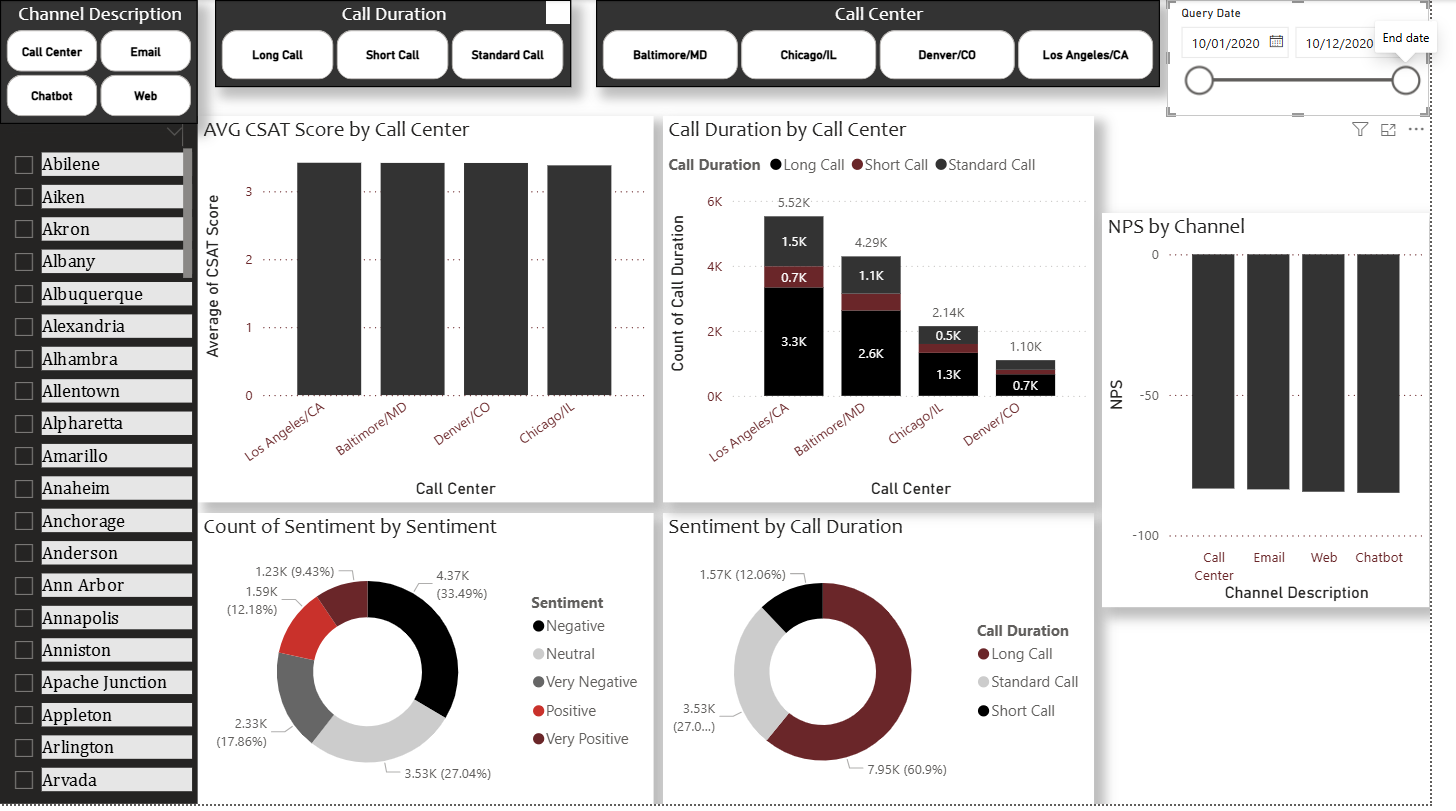

This screenshot's page, from the dashboard's own definition file:
{"tool":"powerbi","page":{"name":"Page 2","canvas":[1280,720],"ordinal":1},"visuals":[{"type":"clusteredColumnChart","title":"AVG CSAT Score by Call Center","fields":{"Category":["Call Center Data.Call Center"],"Y":["Avg(Call Center Data.CSAT Score)"]},"box":[177,104.1,407.5,346.3],"z":0},{"type":"slicer","fields":{"Values":["Call Center Data.Query Date"]},"box":[1160.4,0,119.6,92.4],"z":1000},{"type":"advancedSlicerVisual","title":"Channel","fields":{"Values":["Channel.Channel Description"]},"box":[0,0,229.5,104.1],"z":2000},{"type":"donutChart","fields":{"Category":["Call Center Data.Sentiment"],"Y":["CountNonNull(Call Center Data.Sentiment)"]},"box":[177,459.1,407.5,261.6],"z":3000},{"type":"advancedSlicerVisual","fields":{"Values":["Call Center Data.Call Duration"]},"box":[229.5,0,376.4,66.1],"z":4000},{"type":"donutChart","title":"Sentiment by Call Duration","fields":{"Category":["Call Center Data.Call Duration"],"Y":["CountNonNull(Call Center Data.Call Duration)"]},"box":[593.3,459.1,386.1,261.6],"z":5000},{"type":"columnChart","title":"Call Duration by Call Center","fields":{"Category":["Call Center Data.Call Center"],"Y":["CountNonNull(Call Center Data.Call Duration)"],"Series":["Call Center Data.Call Duration"]},"box":[593.3,104.1,386.1,346.3],"z":6000},{"type":"columnChart","title":"NPS by Channel","fields":{"Category":["Channel.Channel Description"],"Y":["Call Center Data.NPS"]},"box":[987.2,190.6,292.8,353.1],"z":7000},{"type":"advancedSlicerVisual","fields":{"Values":["Call Center Data.Call Center"]},"box":[605,0,555.4,66.1],"z":8000},{"type":"slicer","fields":{"Values":["Call Center Data.City"]},"box":[0,104.1,177,615.7],"z":9000}]}

Visuals, with their boxes on the page's 1280x720 design canvas (x1, y1, x2, y2). These are canvas units, not pixel positions in the 1456x811 screenshot, which may show the page scaled, cropped or inside an application window:
"AVG CSAT Score by Call Center" clusteredColumnChart: [left=177, top=104, right=584, bottom=450]
slicer - Call Center Data.Query Date: [left=1160, top=0, right=1280, bottom=92]
"Channel" advancedSlicerVisual: [left=0, top=0, right=230, bottom=104]
donutChart - Call Center Data.Sentiment x CountNonNull(Call Center Data.Sentiment): [left=177, top=459, right=584, bottom=721]
advancedSlicerVisual - Call Center Data.Call Duration: [left=230, top=0, right=606, bottom=66]
"Sentiment by Call Duration" donutChart: [left=593, top=459, right=979, bottom=721]
"Call Duration by Call Center" columnChart: [left=593, top=104, right=979, bottom=450]
"NPS by Channel" columnChart: [left=987, top=191, right=1280, bottom=544]
advancedSlicerVisual - Call Center Data.Call Center: [left=605, top=0, right=1160, bottom=66]
slicer - Call Center Data.City: [left=0, top=104, right=177, bottom=720]
